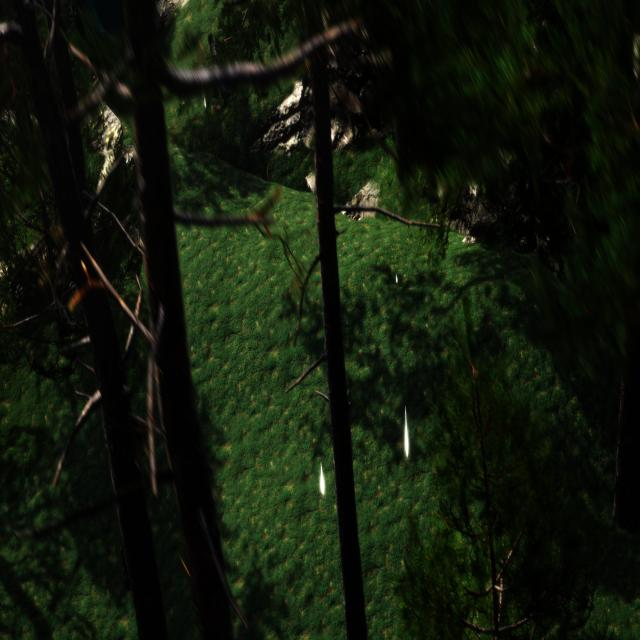Human: (204, 36, 223, 126)
